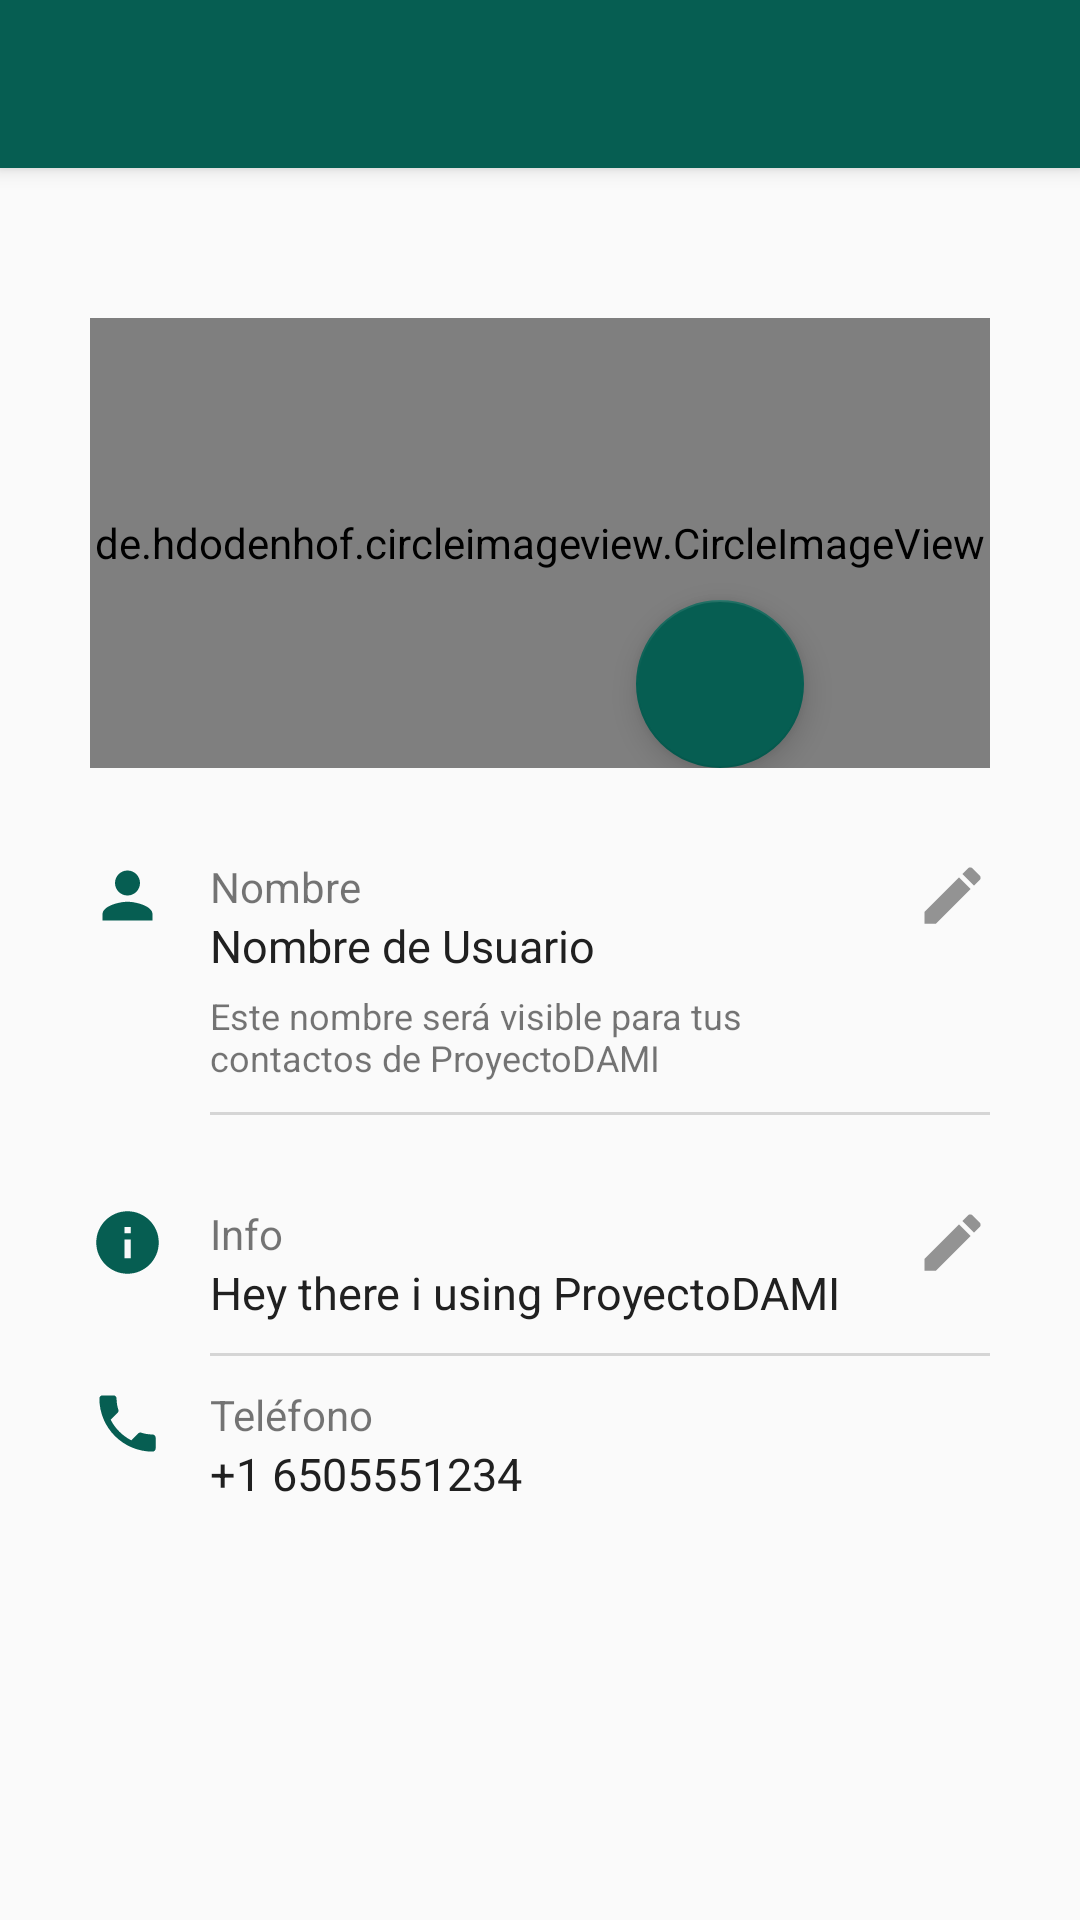

Icon click points for this 1080px×1920px phone screenshot, format [x,y]:
edit: [952,895], [952,1242]
person: [127,895]
phone: [127,1423]
